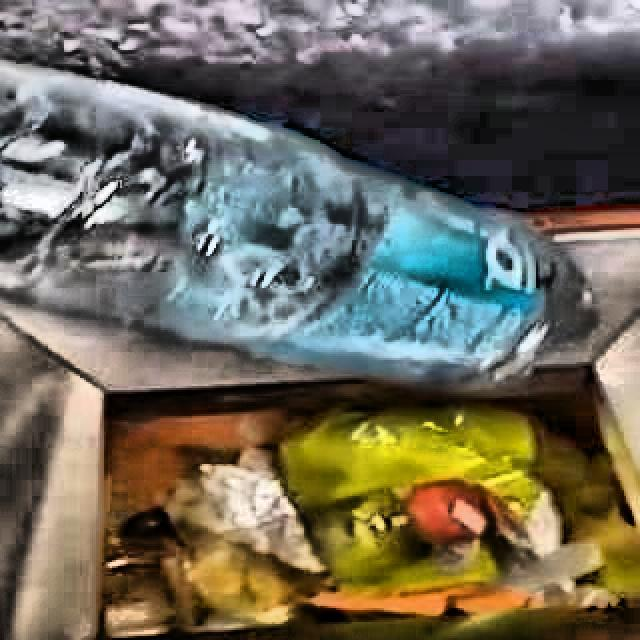plastic: (0, 66, 584, 390)
